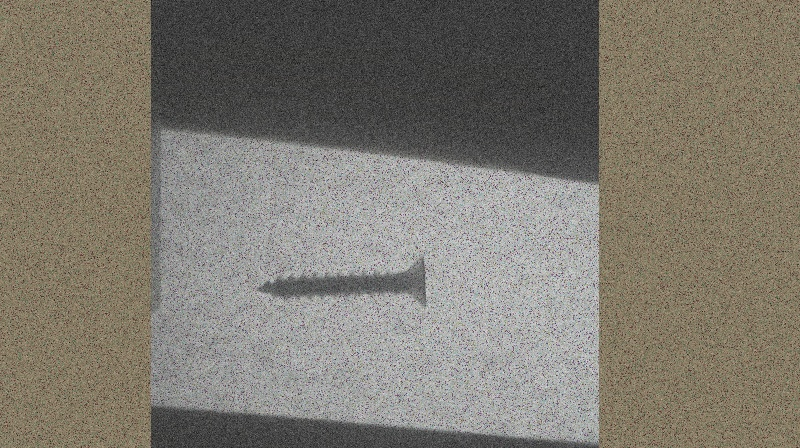S001: (253, 253, 430, 307)
